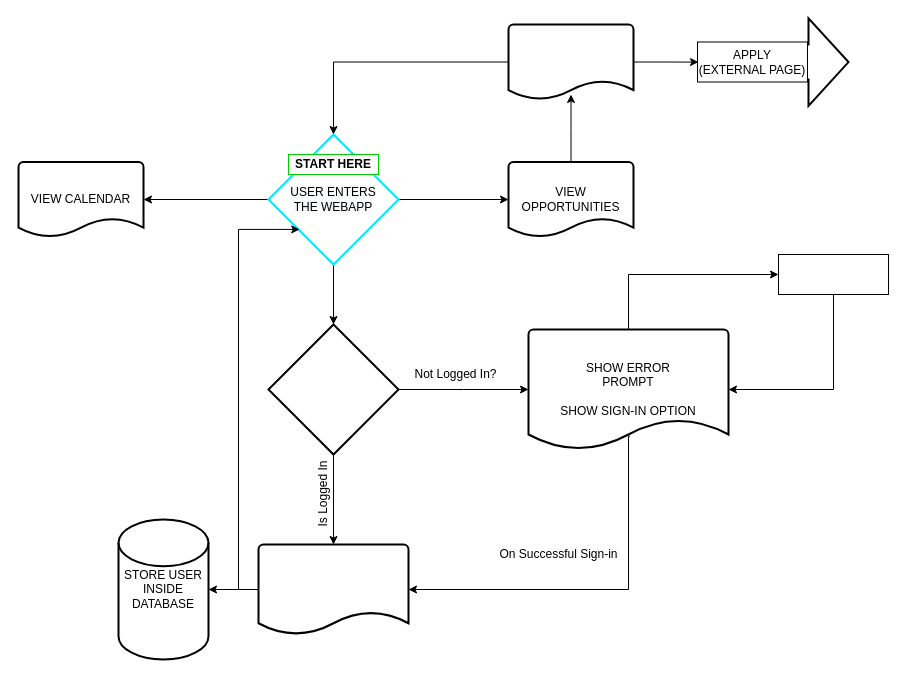
This 906x678 diagram has some shape labels left out. Here are the shapes that lost their labels. From the top down, the centre of each, then its label:
At (x=570, y=61): "DETAIL VIEW".
At (x=833, y=274): "SIGN IN ERROR".
At (x=333, y=389): "POST NEW OPPORTUNITY".
At (x=333, y=589): "SHOW POST SUBMISSION PAGE".
